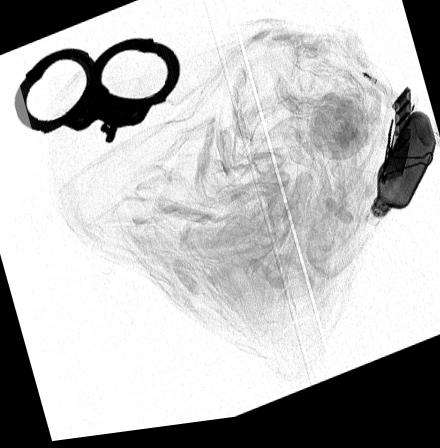HandCuffs: (11, 40, 183, 149)
